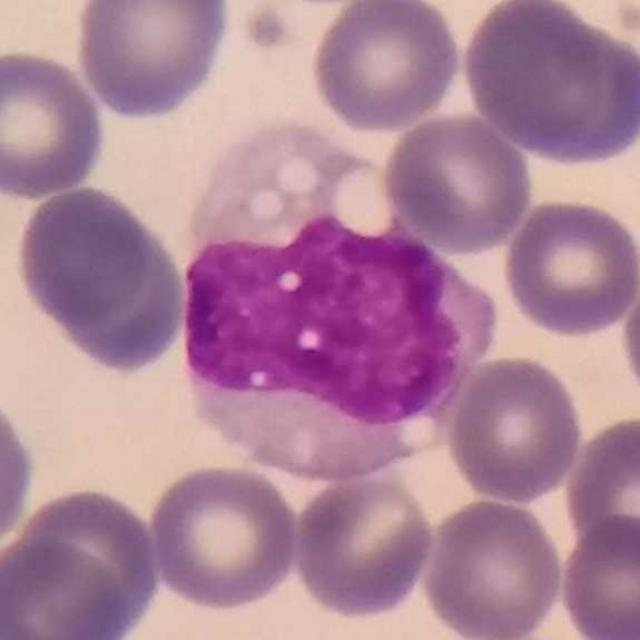Monocyte: (175, 115, 496, 484)
Platelets: (244, 7, 298, 55)
RBC: (10, 179, 190, 375), (144, 460, 302, 612), (378, 108, 536, 256), (288, 469, 439, 622), (444, 351, 587, 505), (418, 494, 568, 640), (16, 488, 158, 639), (307, 0, 465, 135), (460, 0, 601, 146), (500, 194, 640, 340), (70, 0, 237, 122), (513, 20, 640, 159), (0, 45, 110, 202), (1, 535, 134, 640), (560, 412, 640, 560), (555, 513, 640, 640), (0, 387, 40, 566), (617, 263, 640, 416)
